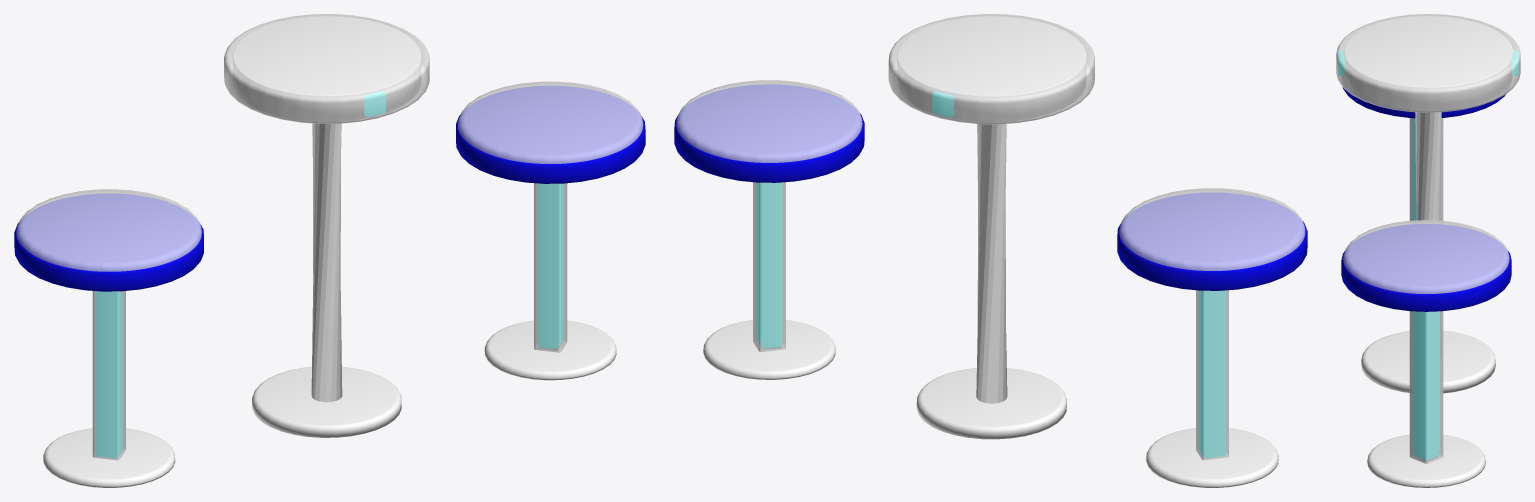
File: bright_bar_table_and_stool_set.glb
3 views of the same model, side by side, from view 1: azimuth 30°, elevation 25°; view 2: azimuth 150°, elevation 25°; view 3: azimuth 270°, elevation 25° (orthographic). The views are drawn at different scales.
Parts seen in each view (by area): view 1: Table_metal_14, Stool_glass_3, Stool_glass.001_9, Stool_color_2, Stool_color.001_8, Table_glass_13, Stool_metal.001_10, Stool_metal_4, Stool_anim_light_1, Stool_anim_light.001_7; view 2: Table_metal_14, Stool_glass.001_9, Stool_glass_3, Stool_color.001_8, Stool_color_2, Table_glass_13, Stool_metal.001_10, Stool_metal_4, Stool_anim_light_1, Stool_anim_light.001_7; view 3: Table_metal_14, Stool_glass.001_9, Stool_color.001_8, Table_glass_13, Stool_metal.001_10, Stool_anim_light.001_7, Stool_glass_3, Stool_color_2, Stool_anim_light_1, Light.002_12.
Part boxes in pixels (x1,y1,x2,y2): Table_metal_14: (233,16,420,437); Stool_glass_3: (16,189,201,460); Stool_glass.001_9: (458,81,643,352); Stool_color_2: (14,194,203,291); Stool_color.001_8: (456,86,645,183); Table_glass_13: (224,14,429,123); Stool_metal.001_10: (484,320,616,380); Stool_metal_4: (43,428,175,487); Stool_anim_light_1: (96,291,122,457); Stool_anim_light.001_7: (538,184,563,348); Table_metal_14: (897,16,1086,439); Stool_glass.001_9: (676,80,862,351); Stool_glass_3: (1119,188,1305,460); Stool_color.001_8: (674,84,864,182); Stool_color_2: (1117,193,1307,290); Table_glass_13: (888,14,1094,124); Stool_metal.001_10: (703,320,835,379); Stool_metal_4: (1146,428,1278,487); Stool_anim_light_1: (1199,290,1225,457); Stool_anim_light.001_7: (756,183,782,348); Table_metal_14: (1344,16,1512,393); Stool_glass.001_9: (1343,220,1509,463); Stool_color.001_8: (1341,224,1511,311); Table_glass_13: (1336,14,1520,112); Stool_metal.001_10: (1367,434,1485,487); Stool_anim_light.001_7: (1413,311,1439,459); Stool_glass_3: (1409,118,1443,220); Stool_color_2: (1342,87,1505,118); Stool_anim_light_1: (1412,118,1415,220); Light.002_12: (1338,50,1518,75).
Bounding box in the file's own units: 1.9 × 1.05 × 0.5586.
